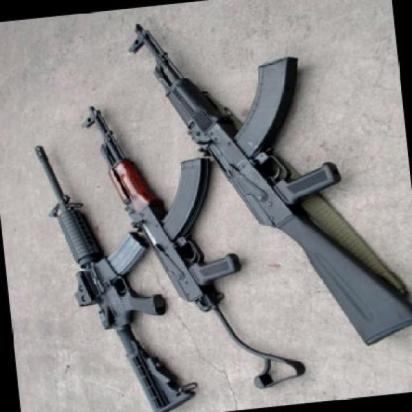Gun: (125, 0, 412, 371), (9, 129, 204, 412), (75, 97, 263, 325)
